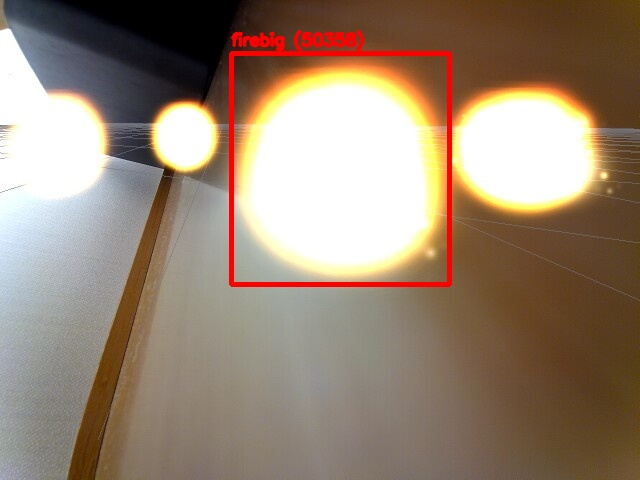firebig: (231, 53, 449, 284)
